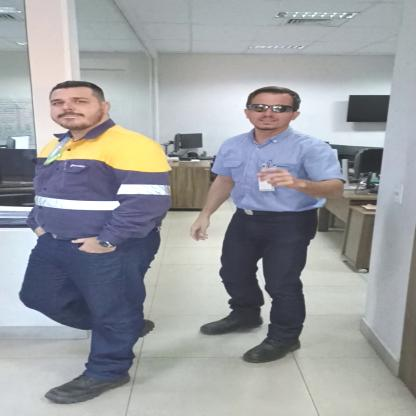Operacional: (29, 126, 177, 240)
